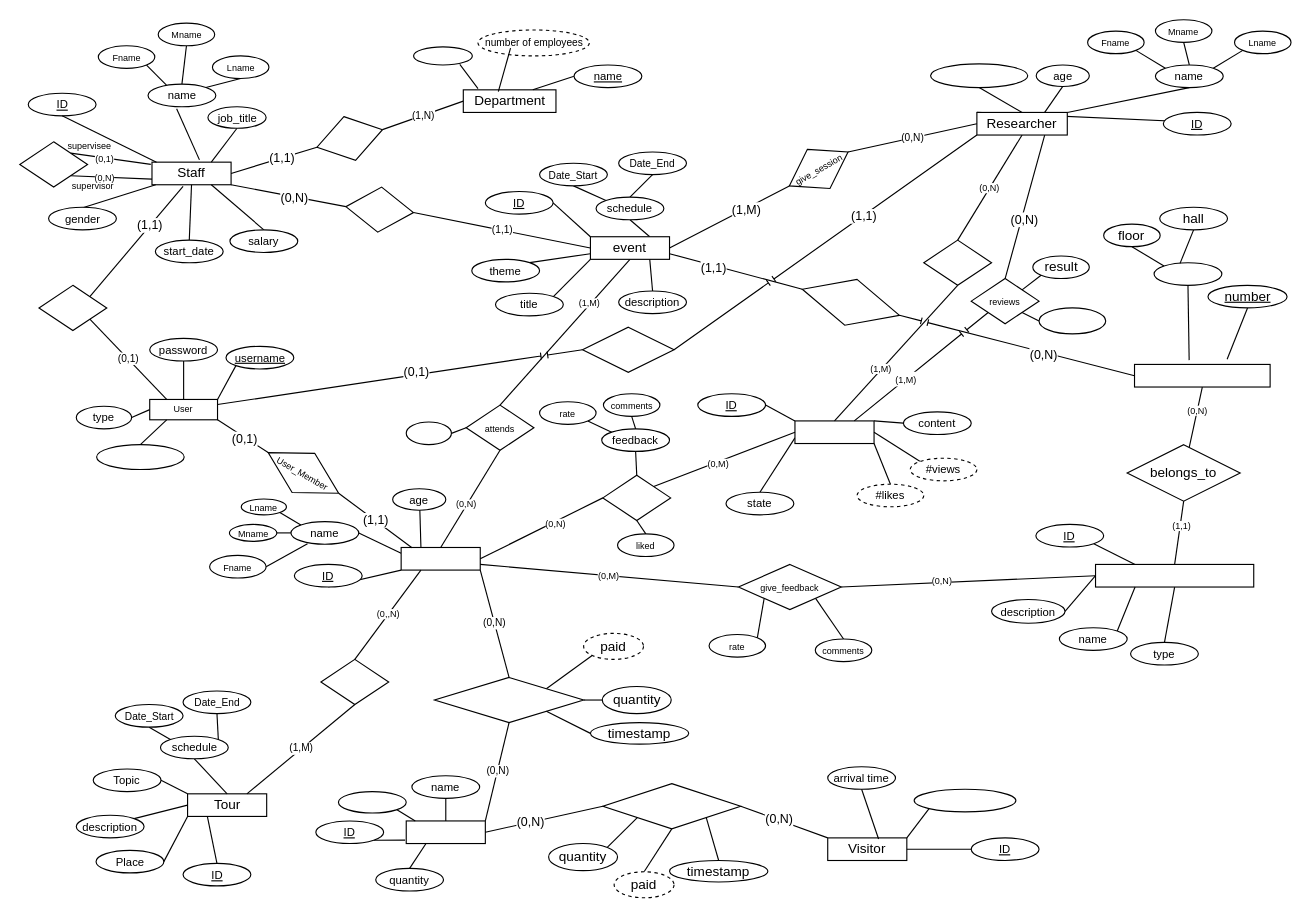
The diagram is 1311 pixels wide and 918 high, and some of its shapes have lost their labels. Here are the shapes that lost their labels. From the top down, the box of each, then its label:
(412, 46, 472, 65): Dno
(929, 63, 1028, 88): years_of_experience
(310, 107, 388, 169): works_in
(19, 141, 88, 187): supervise
(343, 183, 415, 235): Coordinates
(923, 239, 992, 285): writes
(1153, 262, 1222, 285): location
(38, 284, 107, 331): User_Staff
(795, 265, 906, 338): Event_in_section
(1038, 307, 1106, 334): progress
(581, 326, 674, 372): User_Researcher
(1133, 363, 1270, 387): Section
(405, 421, 451, 445): class
(794, 420, 874, 444): Article
(95, 444, 184, 470): register_date
(602, 474, 671, 520): reads
(400, 546, 480, 570): member
(1094, 563, 1254, 587): Painting & Artifact
(320, 658, 389, 705): go_on
(433, 676, 584, 723): Buys_member_souvenir
(337, 790, 406, 813): price
(602, 783, 741, 829): Buys_visitor_souvenir
(913, 788, 1016, 812): departure time
(405, 820, 485, 844): souvenir
